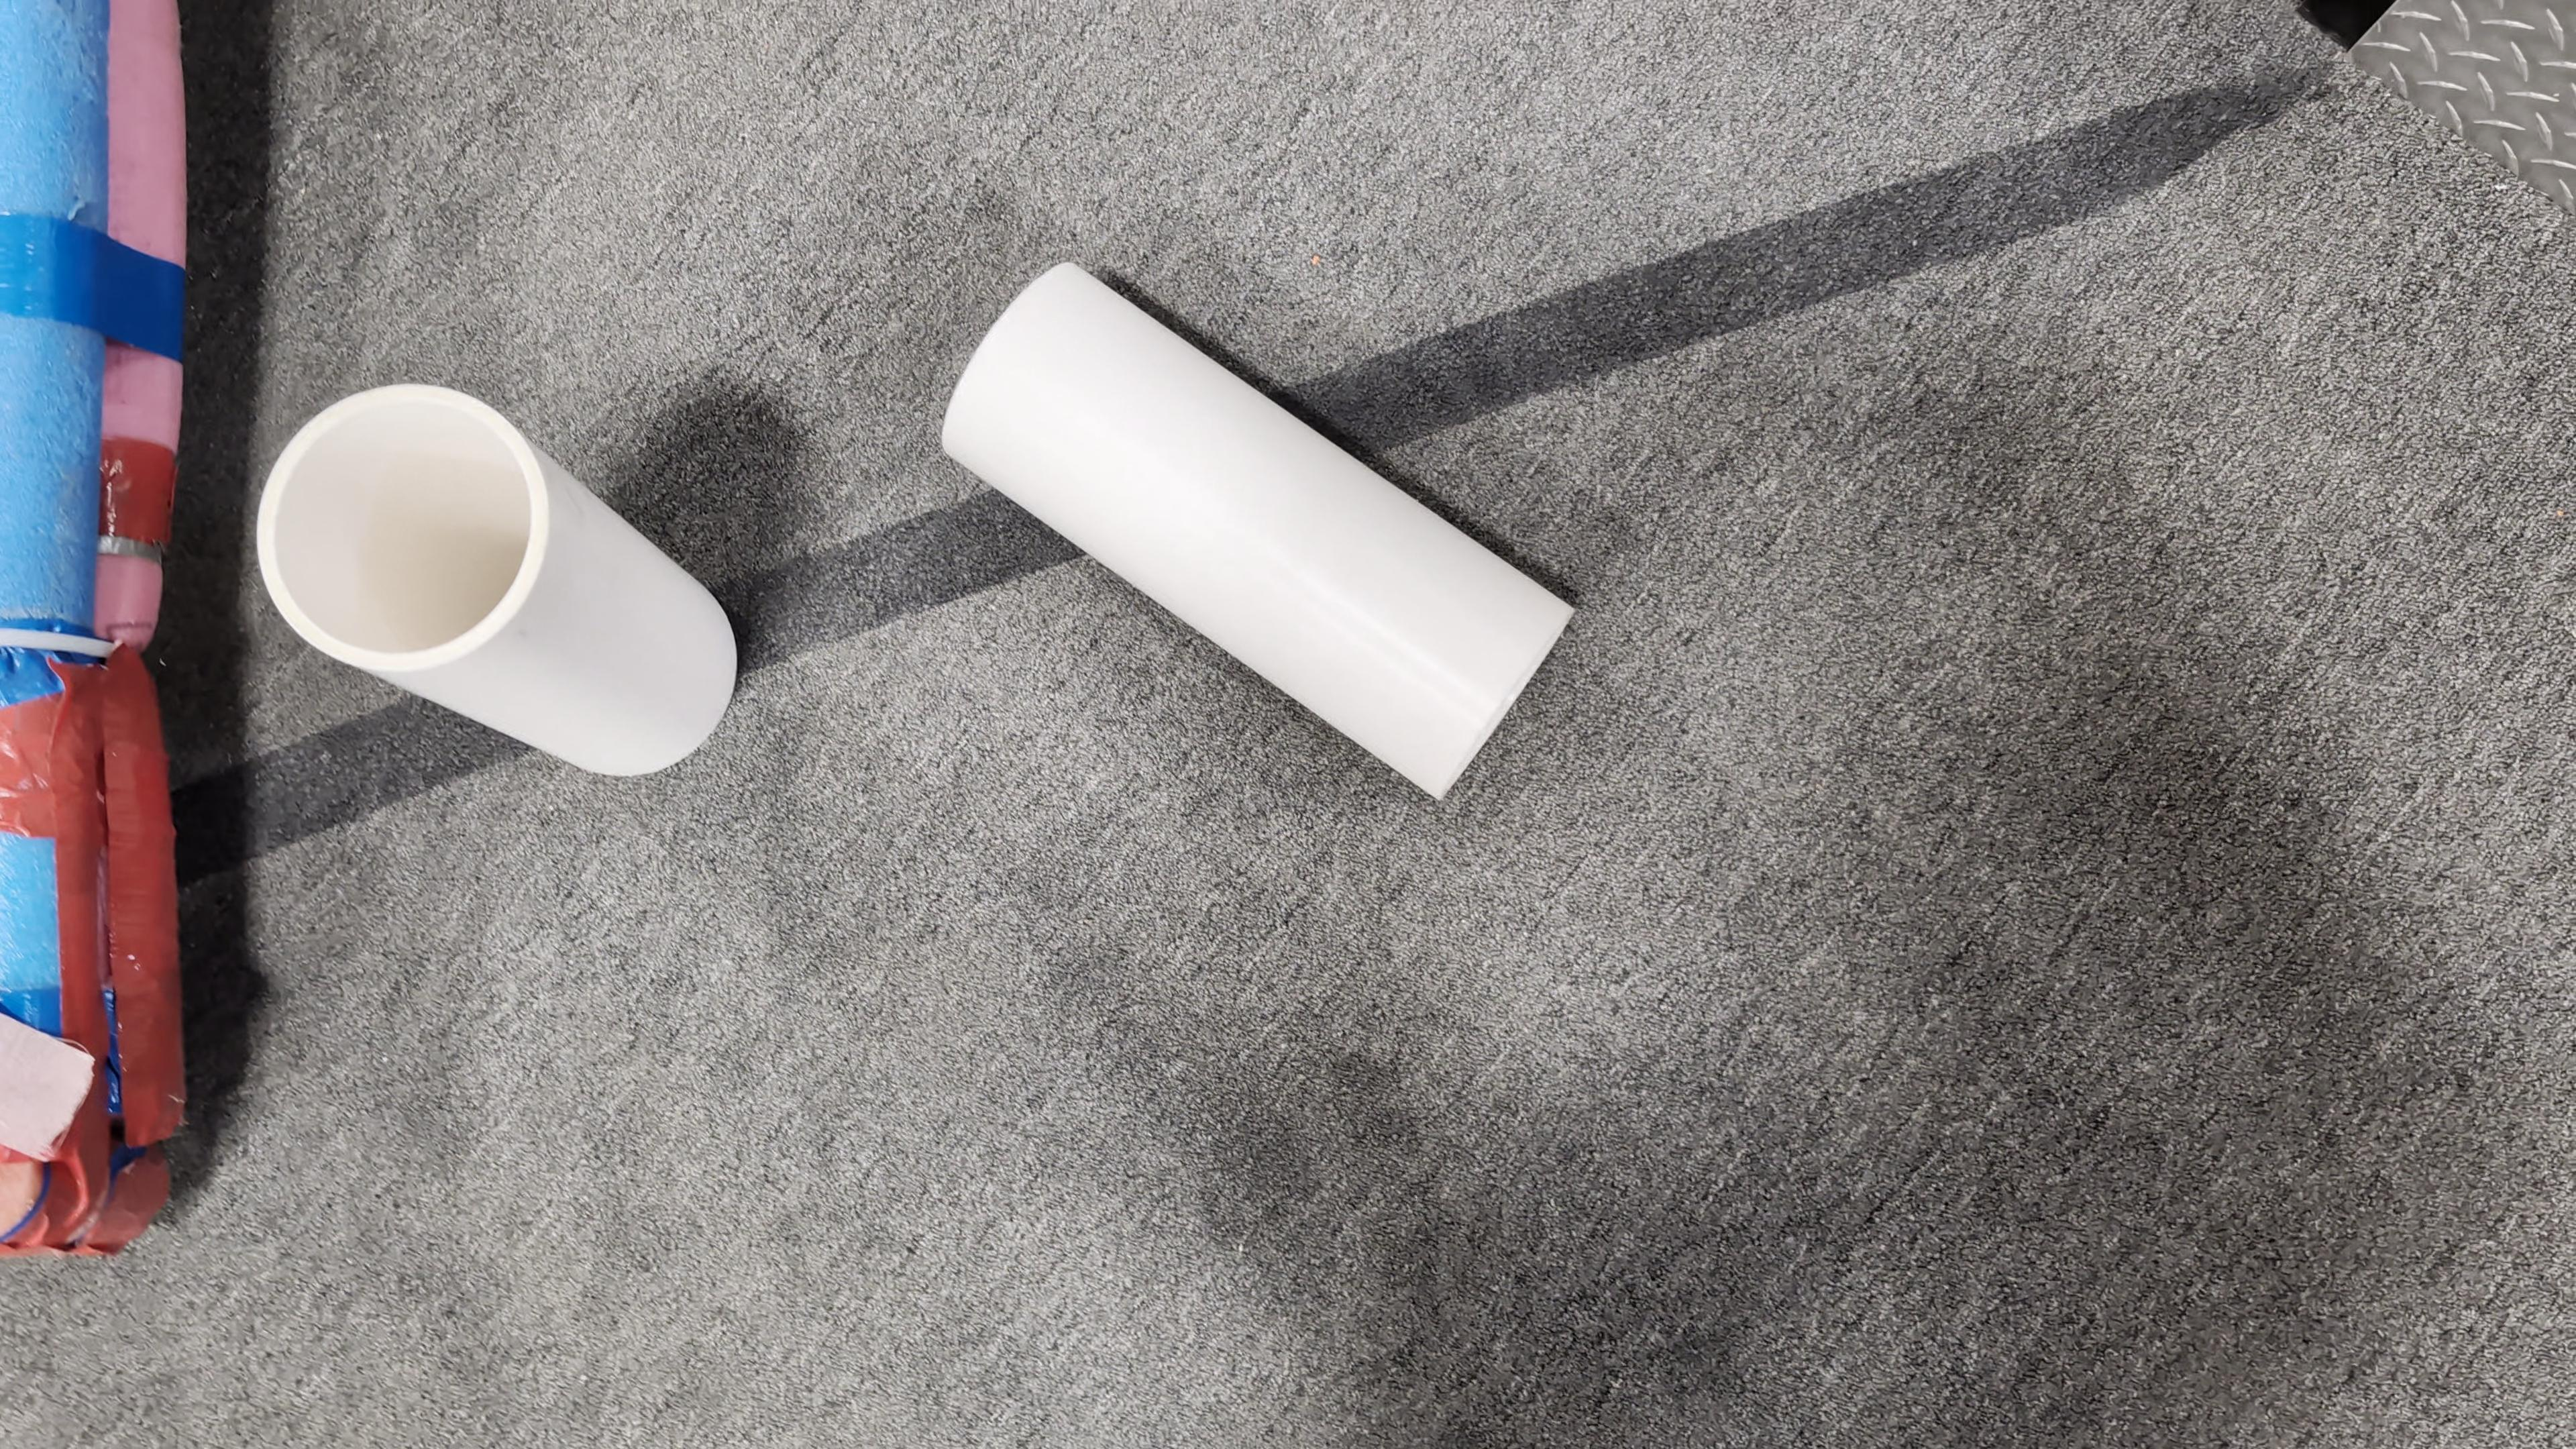coral: (939, 257, 1576, 803), (251, 379, 740, 780)
